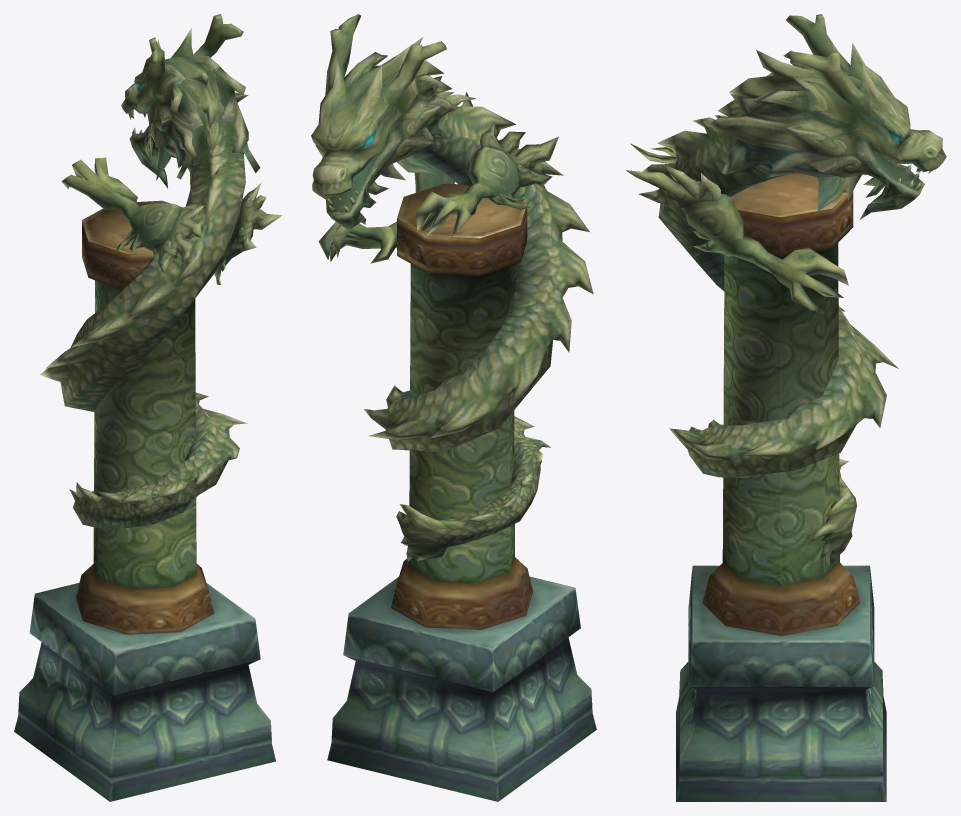
File: zhuang_shi_012.FBX
3 renders of one model, left to right at view 1: azimuth 30°, elevation 25°; view 2: azimuth 150°, elevation 25°; view 3: azimuth 270°, elevation 25°, orthographic. The views are drawn at different scales.
Parts seen in each view (by area): view 1: zhuang_shi_012; view 2: zhuang_shi_012; view 3: zhuang_shi_012.
Boxes of the visible parts, left/top/right/bottom form: zhuang_shi_012: left=14, top=14, right=282, bottom=801; zhuang_shi_012: left=311, top=14, right=596, bottom=801; zhuang_shi_012: left=626, top=14, right=946, bottom=801.
Size of the model in its own units: 283 by 853 by 328.
1 material, 1 textured.
